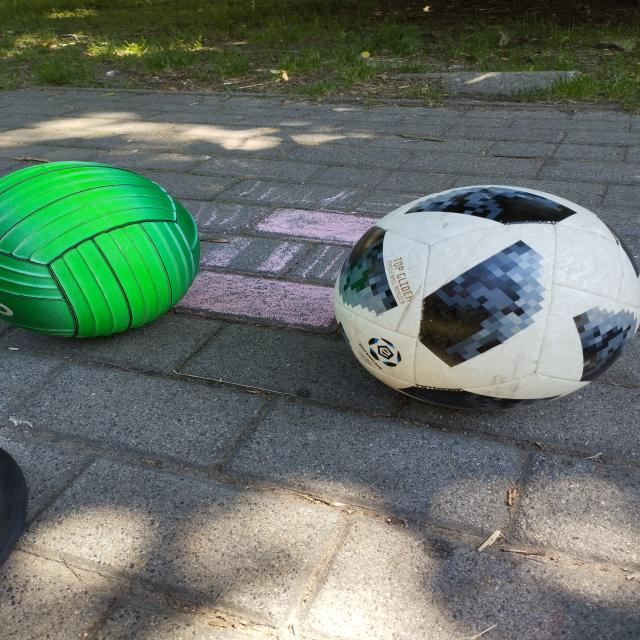nozna: (334, 185, 640, 410)
zielona: (0, 160, 201, 340)
